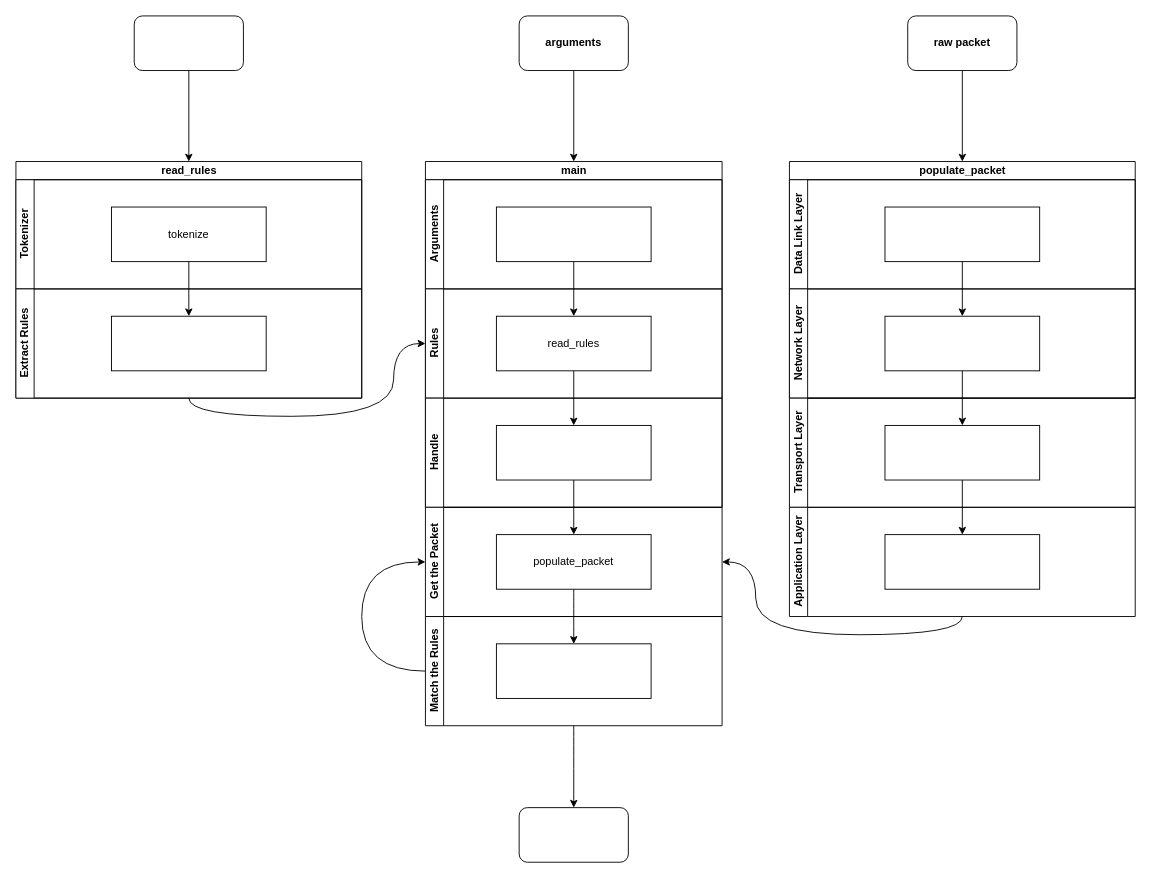
This 1151x878 diagram has some shape labels left out. Here are the shapes that lost their labels. From the top down, the centre of each, then its label:
point 188,43: ids.rules
point 573,234: parse_arguments
point 962,234: populate_data_link_layer
point 188,343: extract_rules
point 962,343: populate_network_layer
point 573,452: get_activated_handle
point 962,452: populate_transport_layer
point 962,561: populate_application_layer
point 573,670: rules_matcher
point 573,834: syslog
